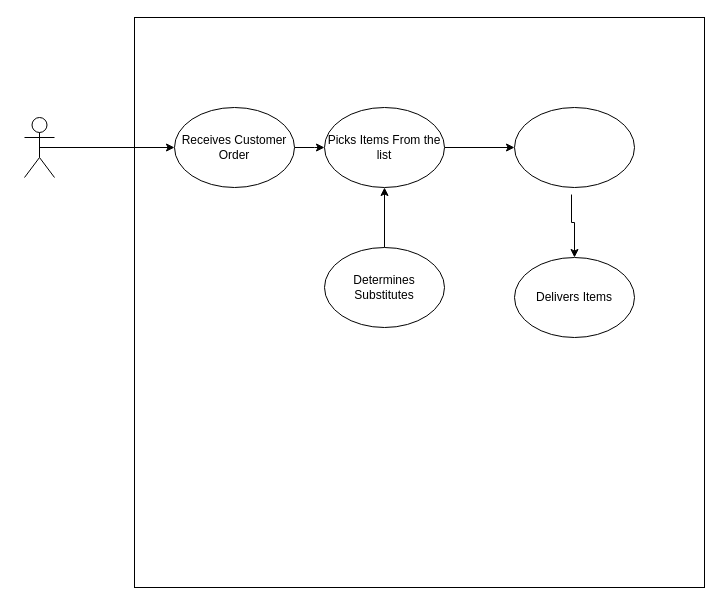
The diagram is 722 pixels wide and 605 high, and some of its shapes have lost their labels. The shapes that lost their labels are listed below. From the top down, each one's centre as x and y in pixels, then its label:
At (39,147): "Shopper".
At (574,147): "Purchases Items".
